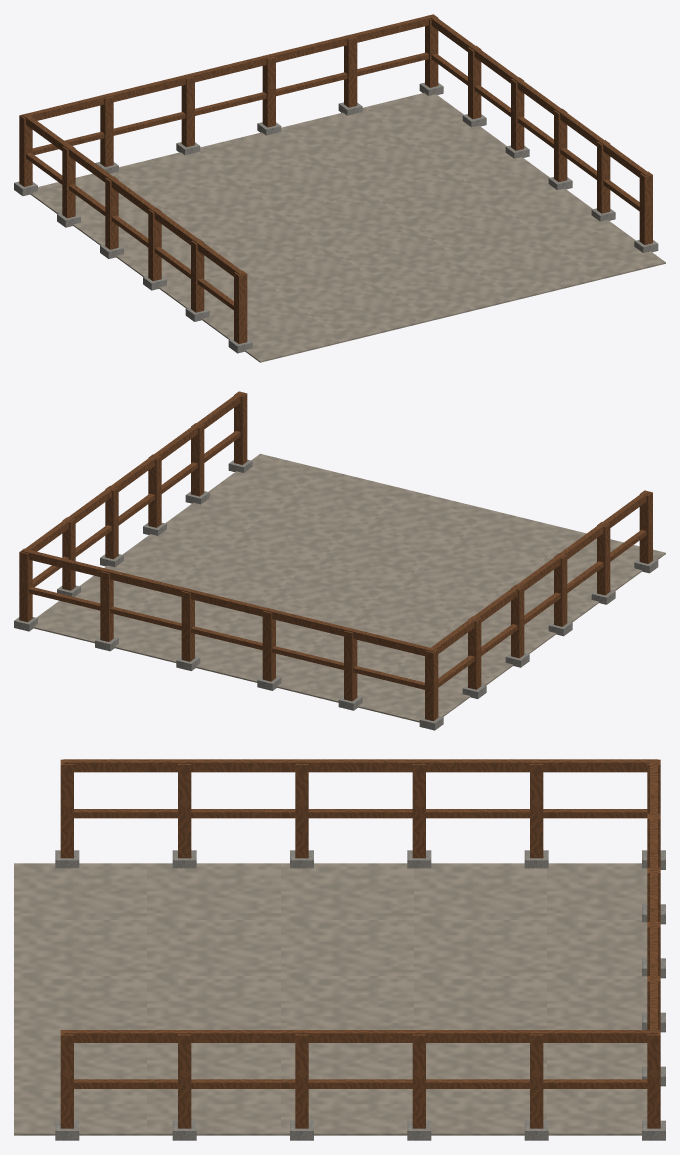
Rendered from arq_patio.obj.
3 views of the same model, one above another, from view 1: azimuth 30°, elevation 25°; view 2: azimuth 150°, elevation 25°; view 3: azimuth 270°, elevation 25° (orthographic). The views are drawn at different scales.
Parts seen in each view (by area): view 1: arq_patio_pavimento, arq_patio_madera, arq_patio_piedra; view 2: arq_patio_pavimento, arq_patio_madera, arq_patio_piedra; view 3: arq_patio_pavimento, arq_patio_madera, arq_patio_piedra.
Boxes of the visible parts, x1=… form: arq_patio_pavimento: x1=30, y1=93, x2=665, y2=362; arq_patio_madera: x1=19, y1=14, x2=652, y2=343; arq_patio_piedra: x1=14, y1=82, x2=658, y2=353; arq_patio_pavimento: x1=33, y1=453, x2=665, y2=722; arq_patio_madera: x1=19, y1=391, x2=652, y2=721; arq_patio_piedra: x1=14, y1=459, x2=658, y2=730; arq_patio_pavimento: x1=14, y1=863, x2=647, y2=1135; arq_patio_madera: x1=60, y1=759, x2=660, y2=1128; arq_patio_piedra: x1=55, y1=850, x2=665, y2=1140.
Bounding box in the file's own units: 4.98 × 0.86 × 4.89.
Materials: 3 (3 with a texture image).
